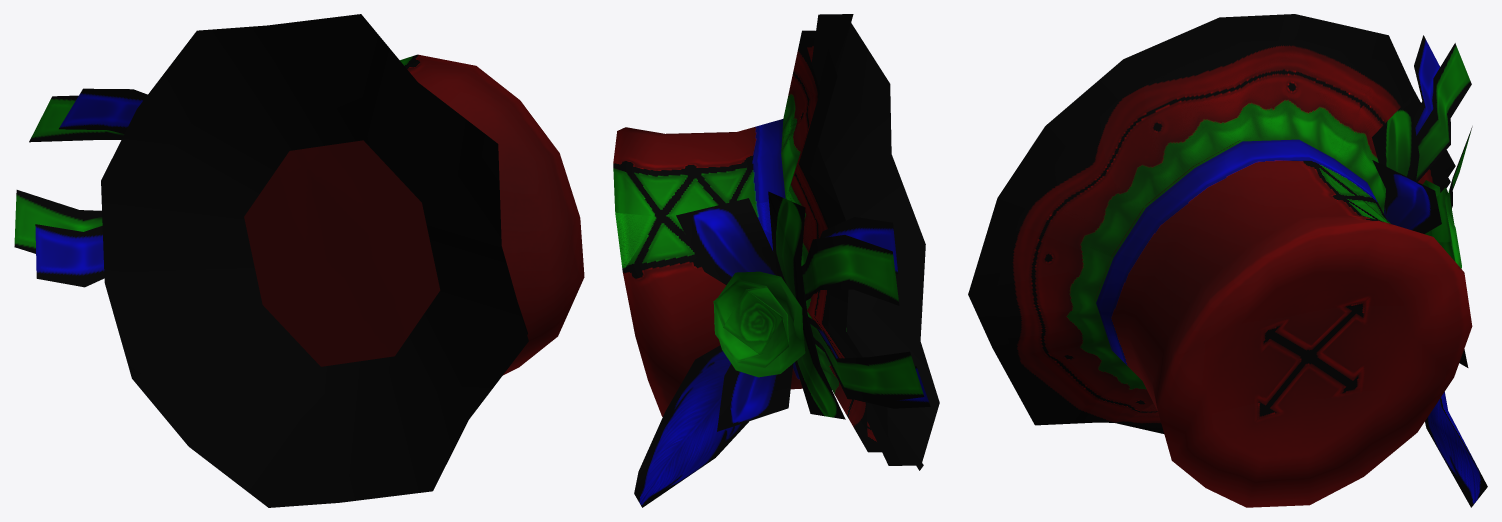
The picture shows the model from 3 angles, left to right: view 1: azimuth 30°, elevation 25°; view 2: azimuth 150°, elevation 25°; view 3: azimuth 270°, elevation 25°; orthographic projection. The views are drawn at different scales.
Parts seen in each view (by area): view 1: F1223; view 2: F1223; view 3: F1223.
Boxes of the visible parts, x1,y1,x2,y2 form: F1223: (14,14,584,507); F1223: (613,14,939,507); F1223: (968,14,1487,507).
Size of the model in its own units: 0.3737 by 0.3882 by 0.3844.
